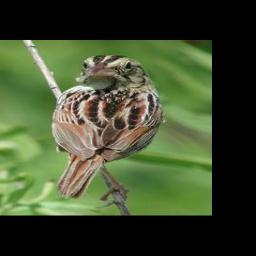Sparrow: (53, 54, 166, 209)
